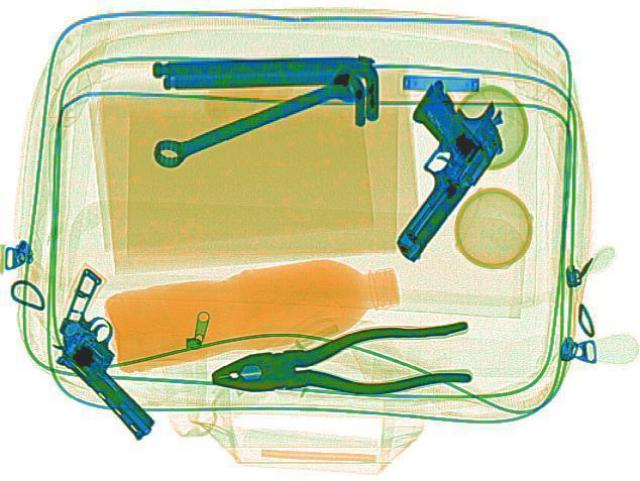Gun: (318, 75, 532, 260), (22, 265, 165, 448)
Pliers: (202, 316, 478, 409)
Wrench: (142, 63, 378, 168)
